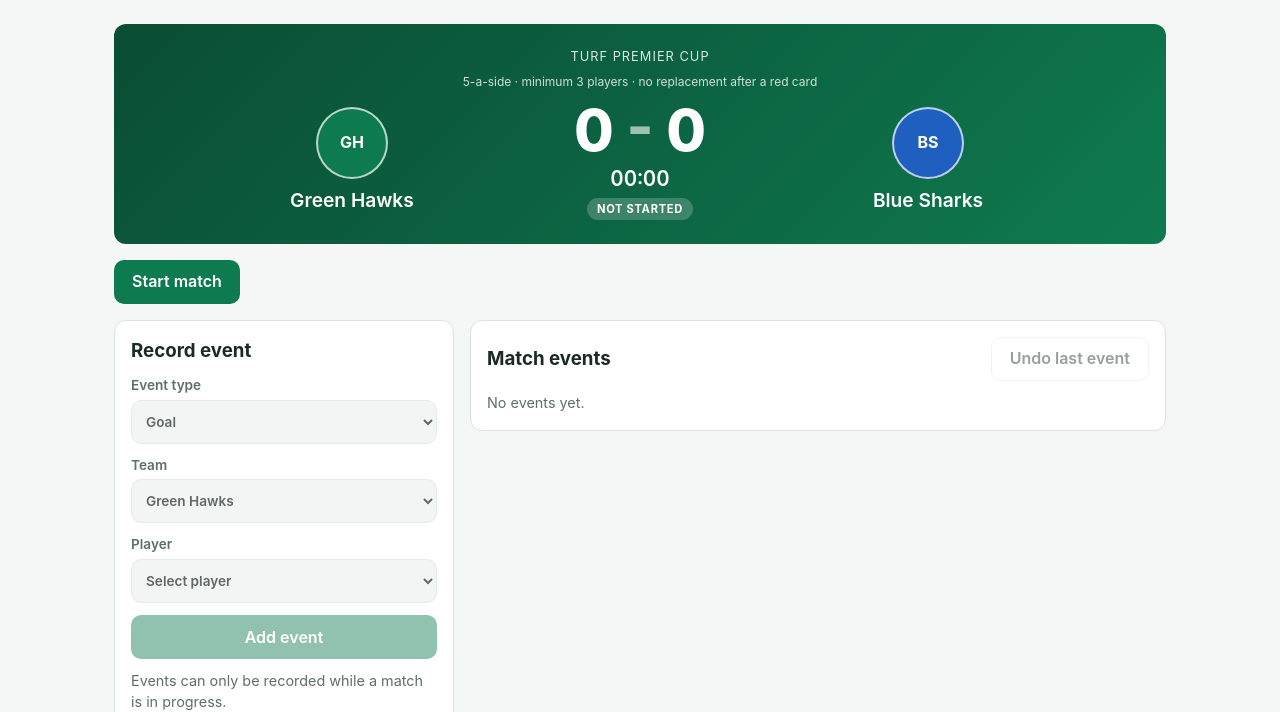
Test case: Match Centre: the full workflow › a finished match is saved to history and can be retrieved after a reload
Click the button "Start match". click: coordinates (177, 282)
box: [114,260,240,304]
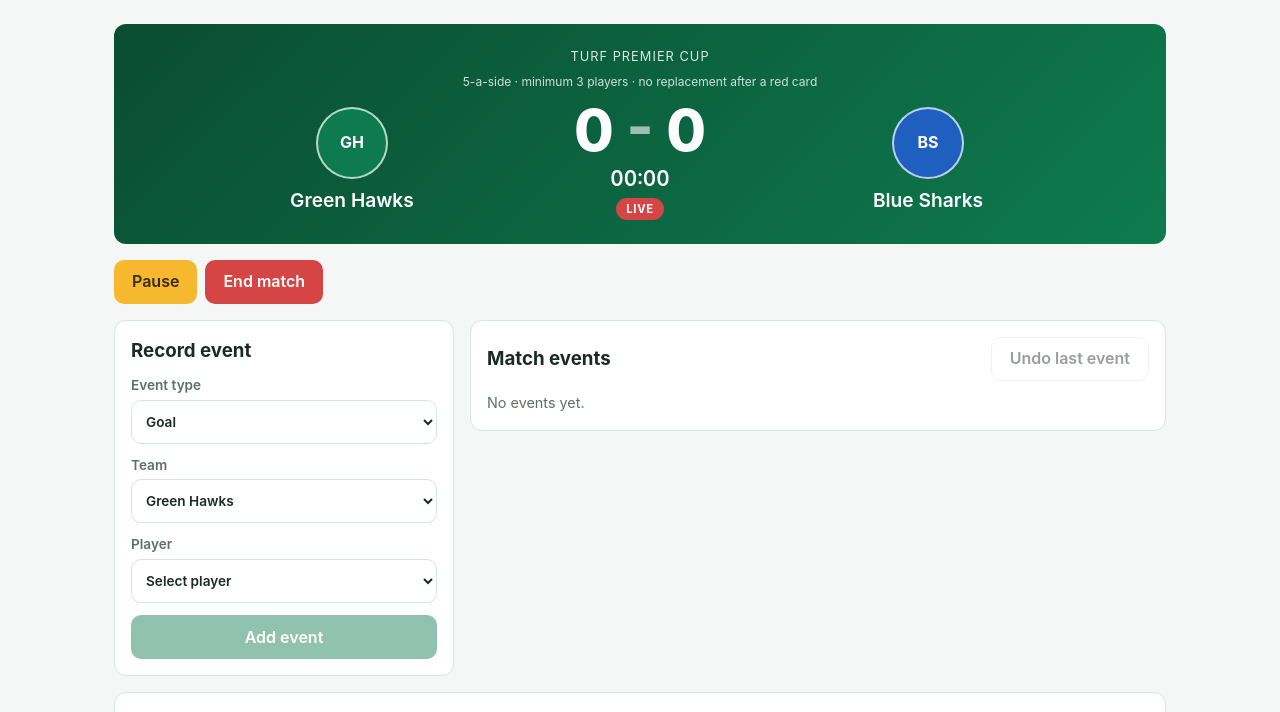
Select "Goal" in the dropdown labelled "Event type". click: coordinates (284, 422)
box: [131,400,437,444]
Select "Green Hawks" in the dropdown labelled "Team". click: coordinates (284, 502)
box: [131,480,437,524]
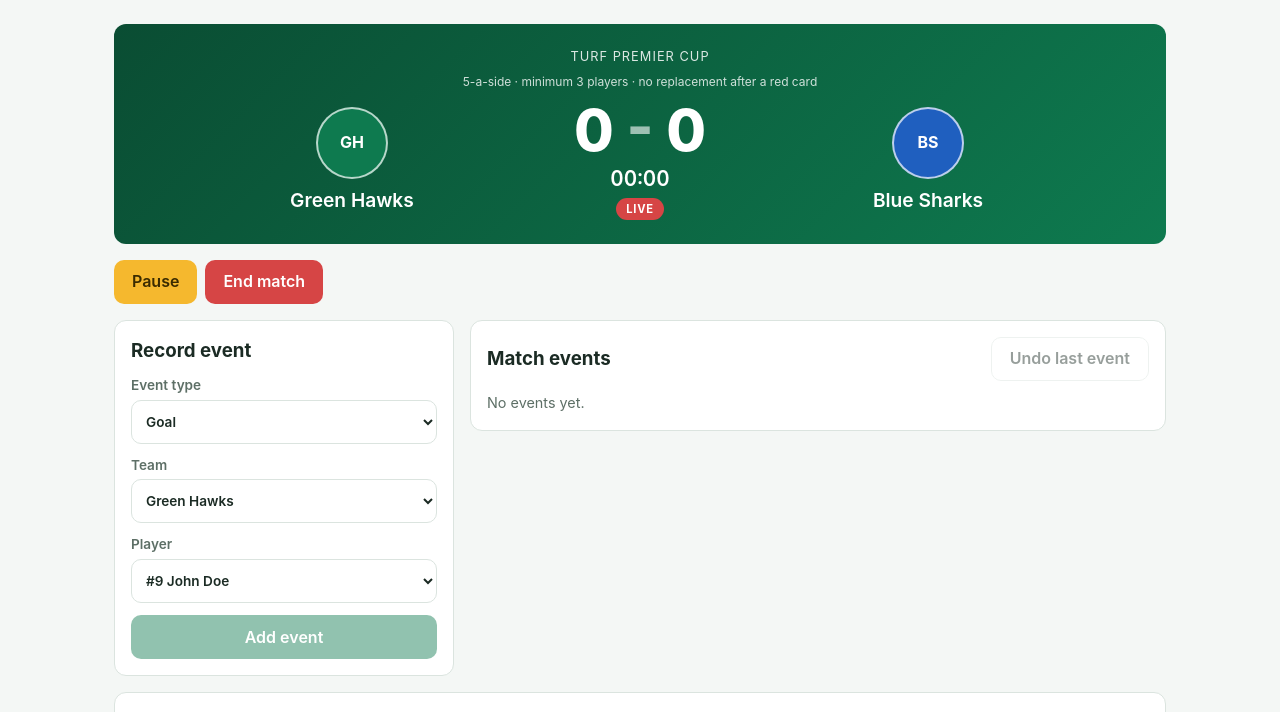
Select "#9 John Doe" in the dropdown labelled "Player". click: coordinates (284, 581)
box: [131,559,437,603]
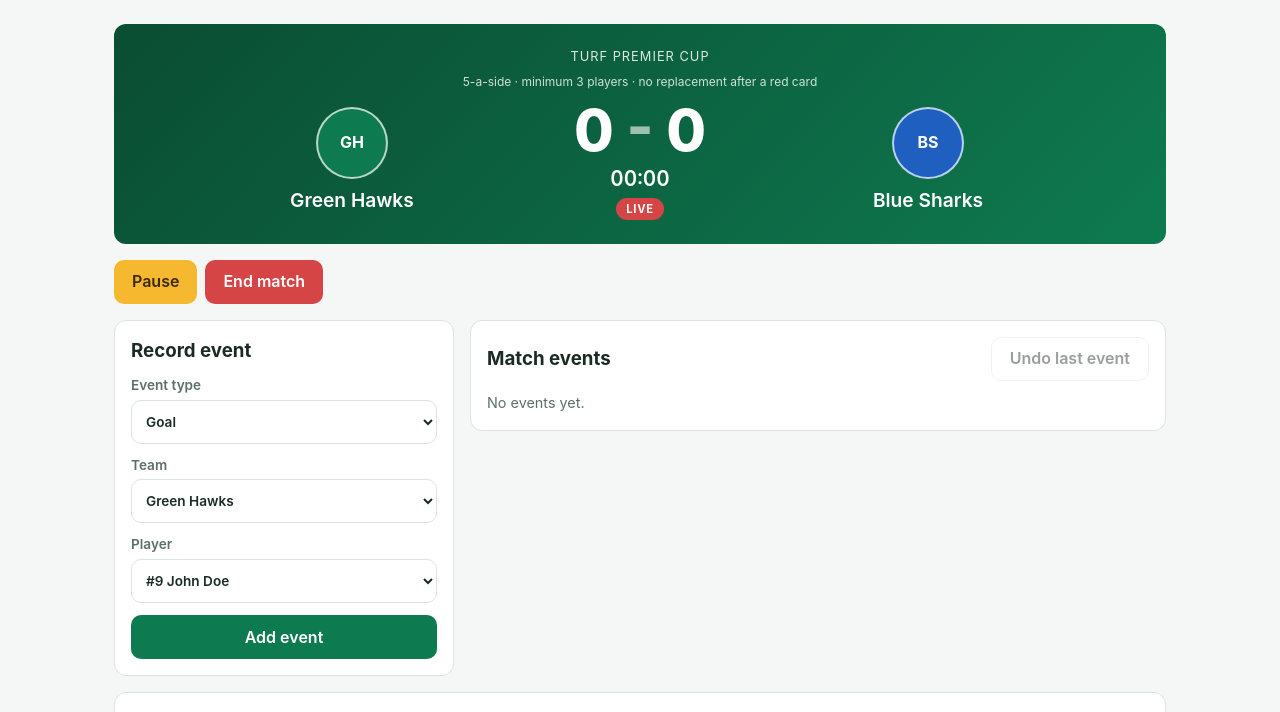
Click the button "Add event". click: coordinates (284, 637)
box: [131,615,437,659]
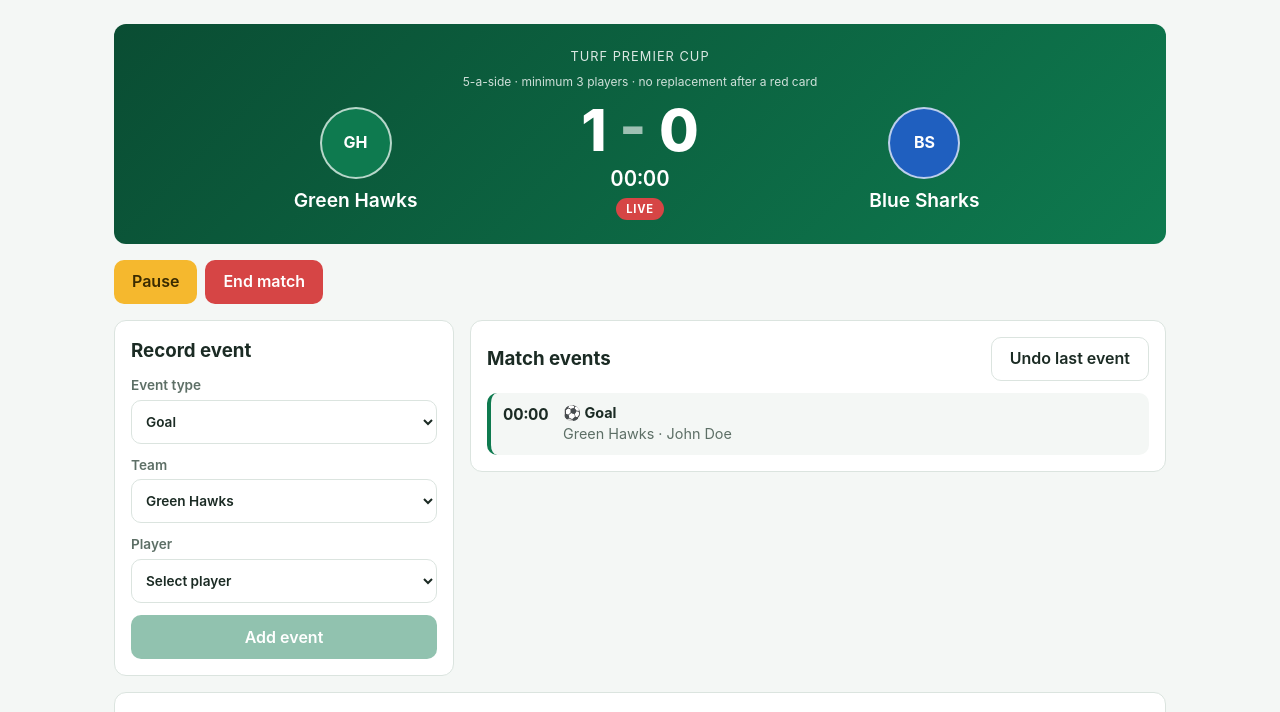
Click the button "End match". click: coordinates (264, 282)
box: [205,260,323,304]
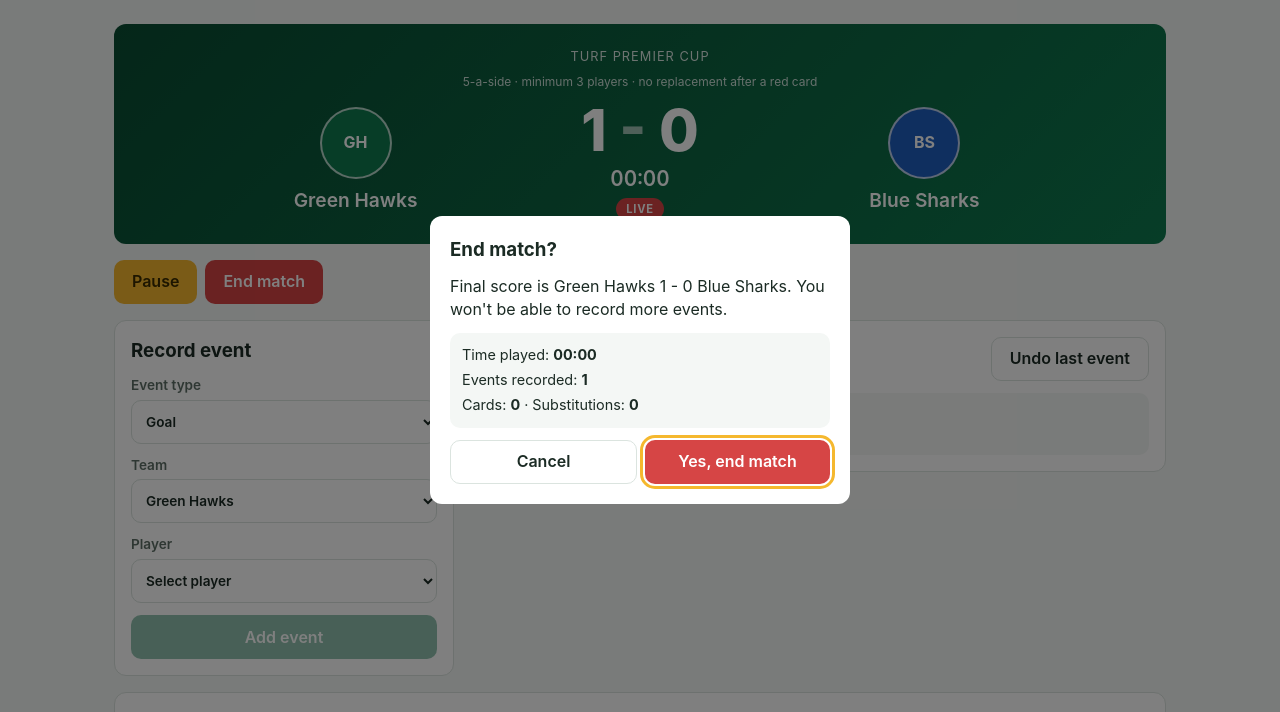
Click the button "Yes, end match". click: coordinates (738, 462)
box: [645,440,830,484]
(page scrolled)
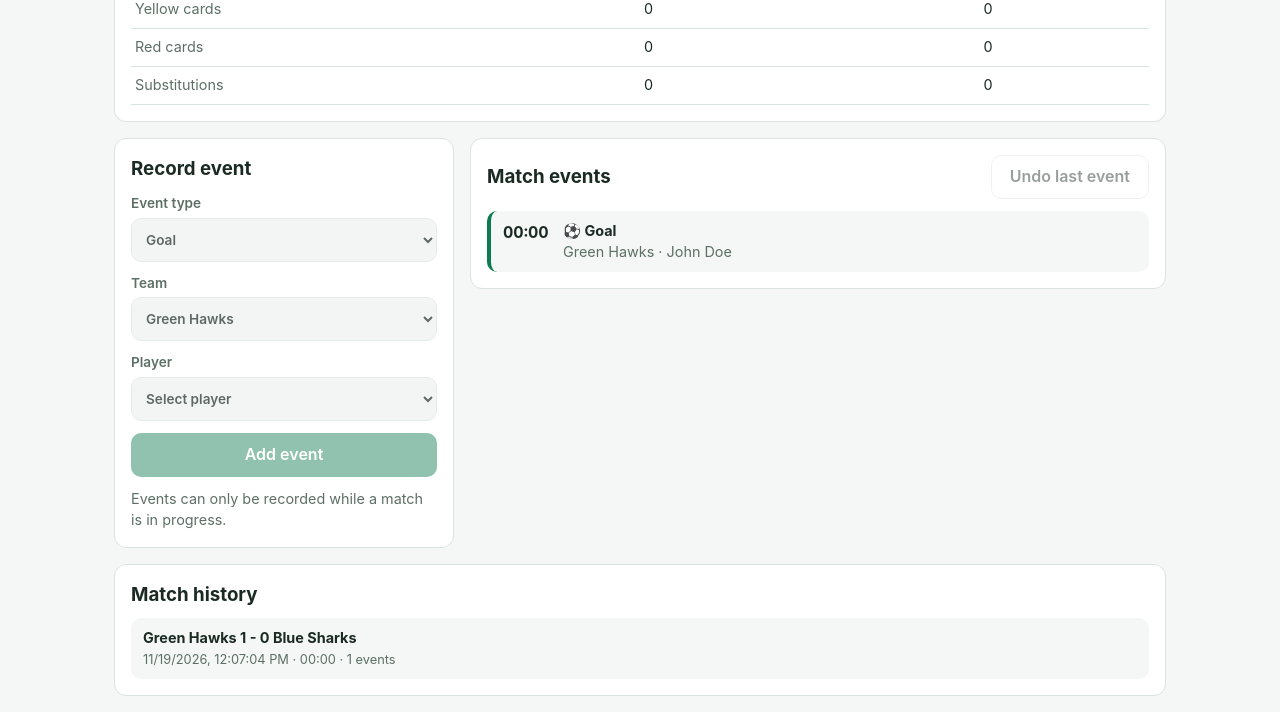
expect the list item that starts with "Green Hawks" shows "Green Hawks 1 - 0 Blue Sharks": met, box [131,618,1149,679]
